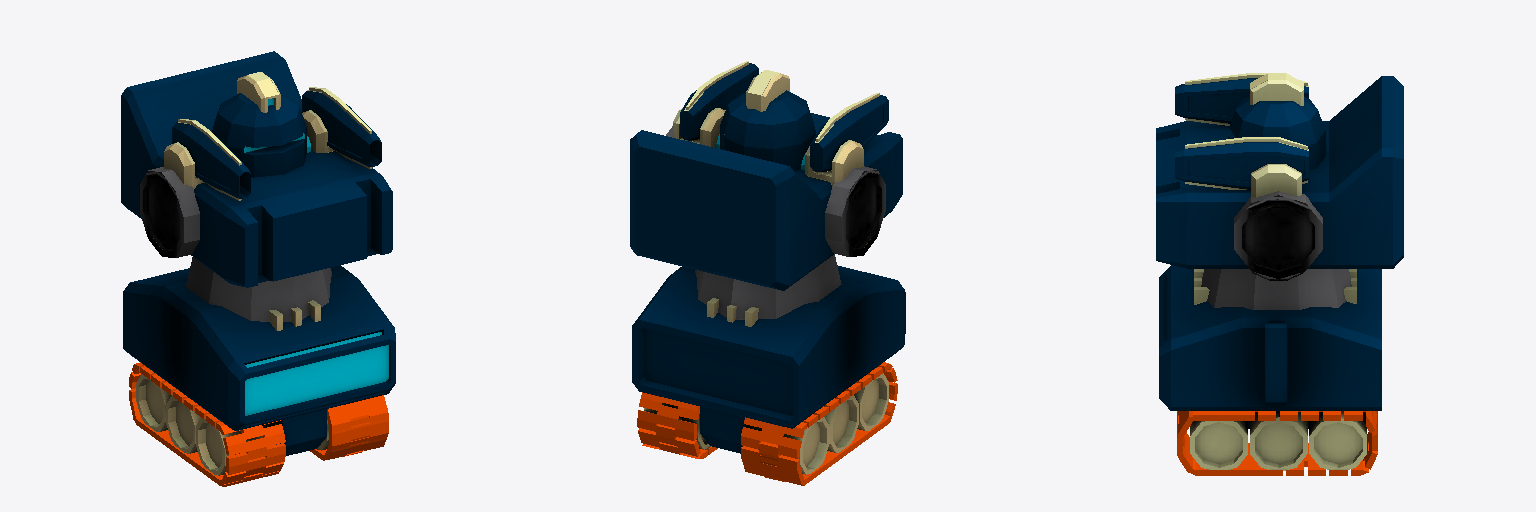
3 views of the same model, side by side, from view 1: azimuth 30°, elevation 25°; view 2: azimuth 150°, elevation 25°; view 3: azimuth 270°, elevation 25° (orthographic).
Visible parts, largest first — view 1: Object009, Box029, Object004, Box028; view 2: Object009, Box029, Object004, Box028; view 3: Object009, Object004, Box028.
Boxes of the visible parts, box(x1,y1,x2,y2) form: Object009: box(121, 51, 395, 455); Box029: box(129, 362, 285, 486); Object004: box(136, 180, 328, 475); Box028: box(310, 395, 388, 460); Object009: box(630, 61, 905, 453); Box029: box(741, 362, 897, 485); Object004: box(644, 186, 888, 474); Box028: box(637, 392, 717, 458); Object009: box(1156, 73, 1403, 428); Object004: box(1190, 206, 1366, 470); Box028: box(1177, 411, 1377, 475).
Bounding box in the file's own units: 211 × 368 × 228.
Materials: 2 (1 with a texture image).